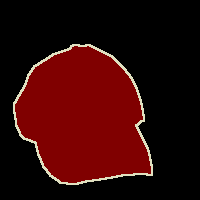hat: (14, 44, 152, 184)
